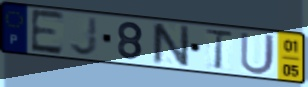8: (116, 20, 145, 62)
E: (29, 8, 66, 57)
J: (68, 15, 99, 57)
N: (150, 22, 192, 69)
T: (203, 28, 235, 72)
U: (239, 31, 278, 77)
